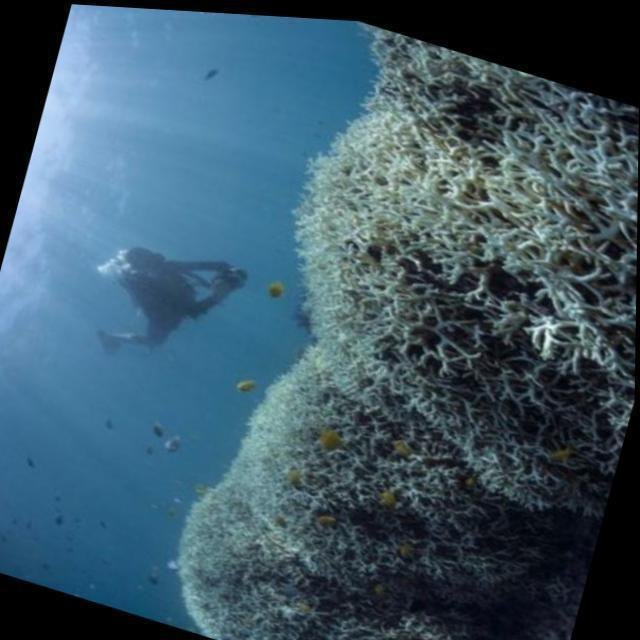Dead Coral: (163, 205, 638, 640), (153, 293, 628, 640), (370, 25, 505, 136)
